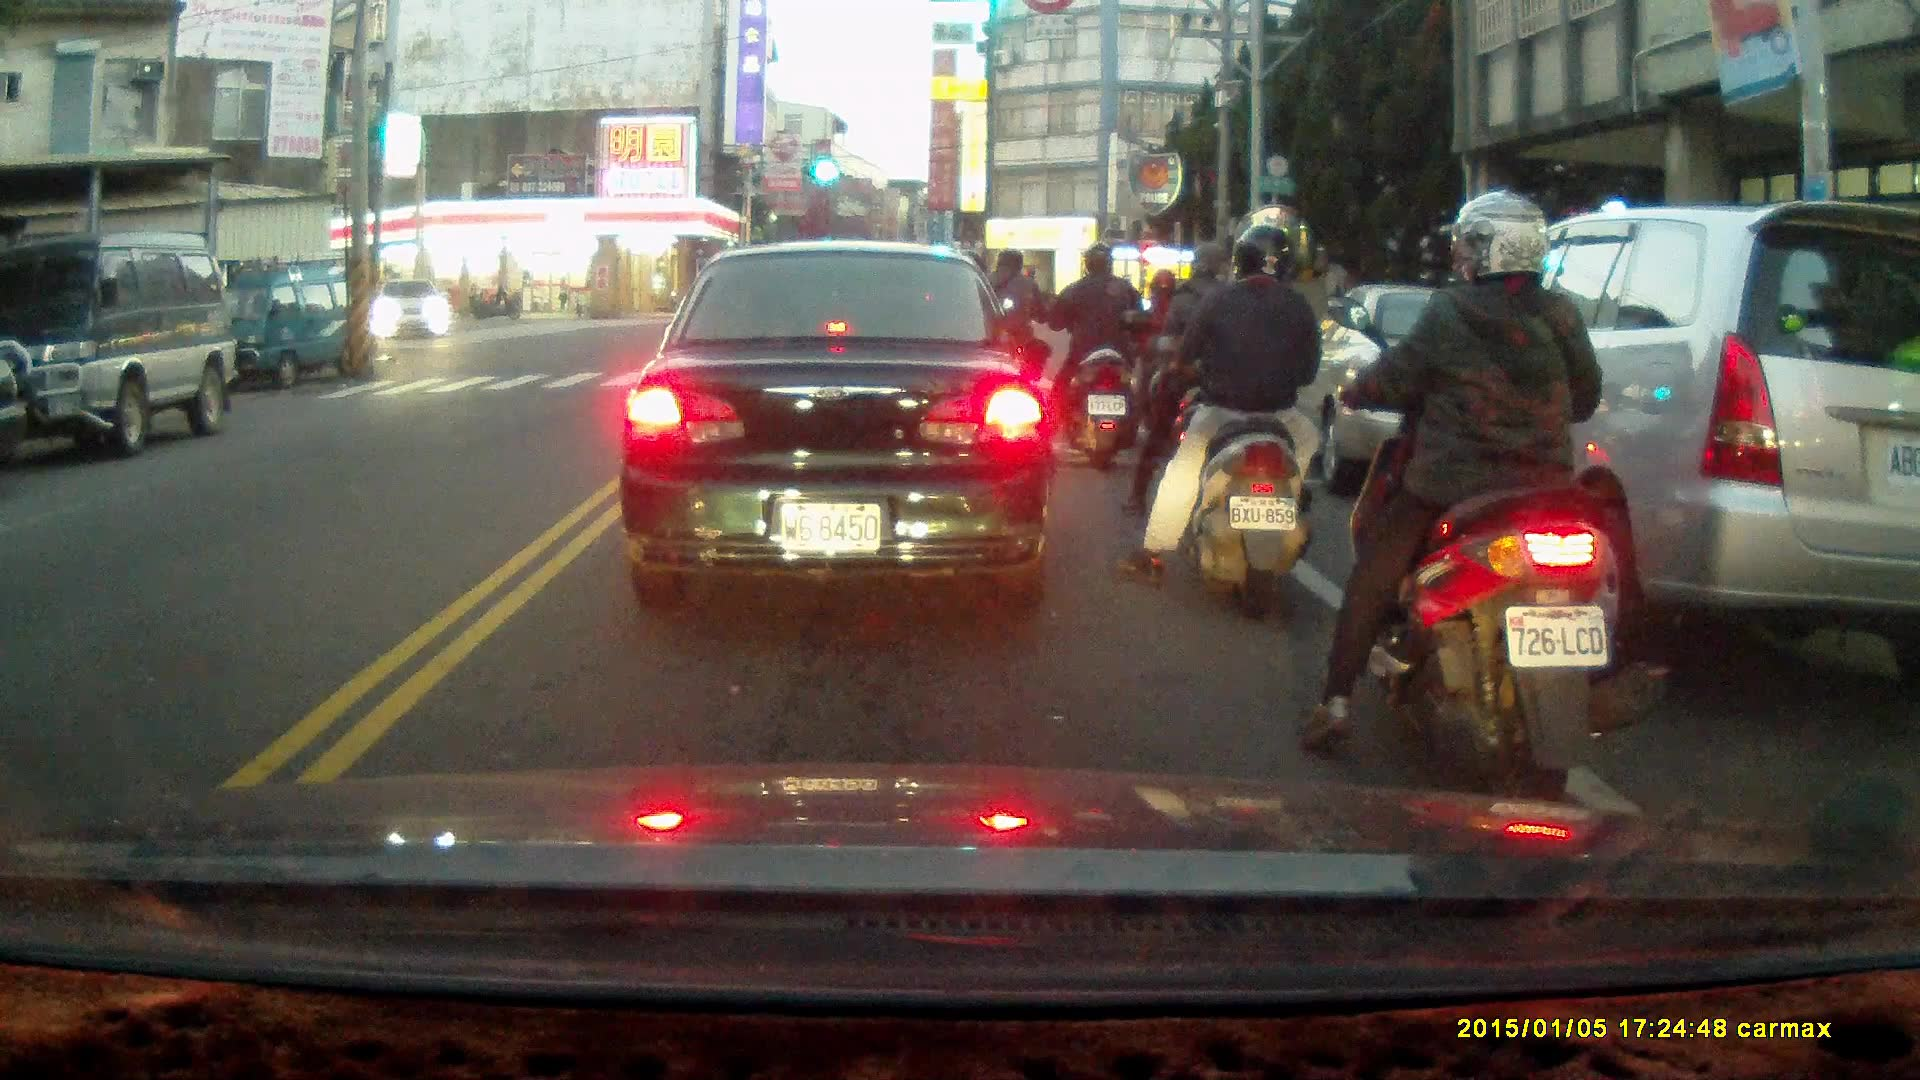rider: (1299, 188, 1667, 833), (1108, 224, 1321, 618), (1120, 240, 1253, 533), (1046, 246, 1142, 470), (968, 247, 1049, 424), (1129, 267, 1201, 446)
vehicle: (1391, 195, 1920, 685), (617, 243, 1061, 606), (1302, 284, 1614, 506), (1, 234, 221, 458), (193, 260, 367, 395), (372, 277, 451, 343)
